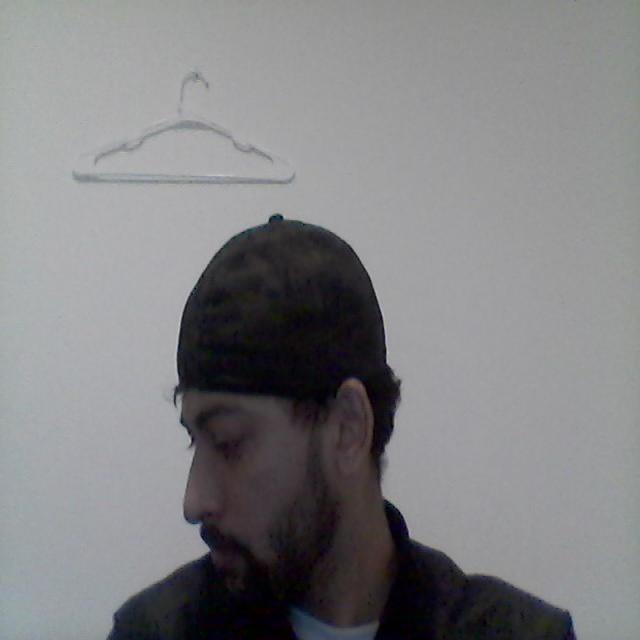cap: (134, 188, 425, 423)
